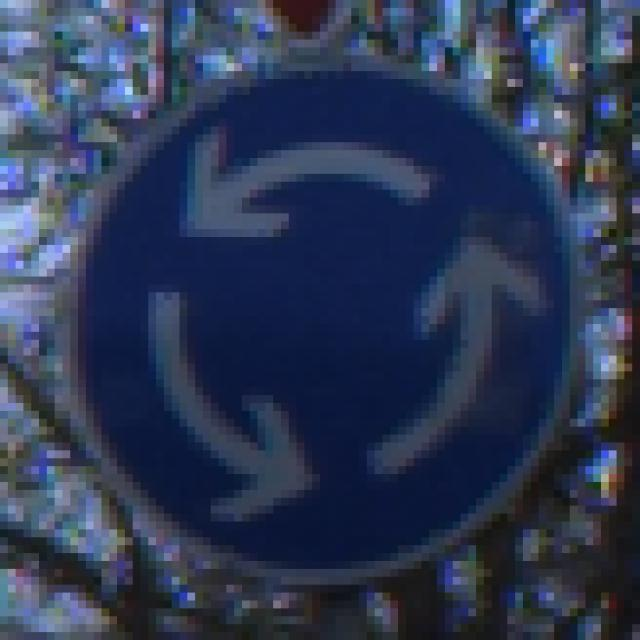roundabout: (56, 54, 590, 595)
